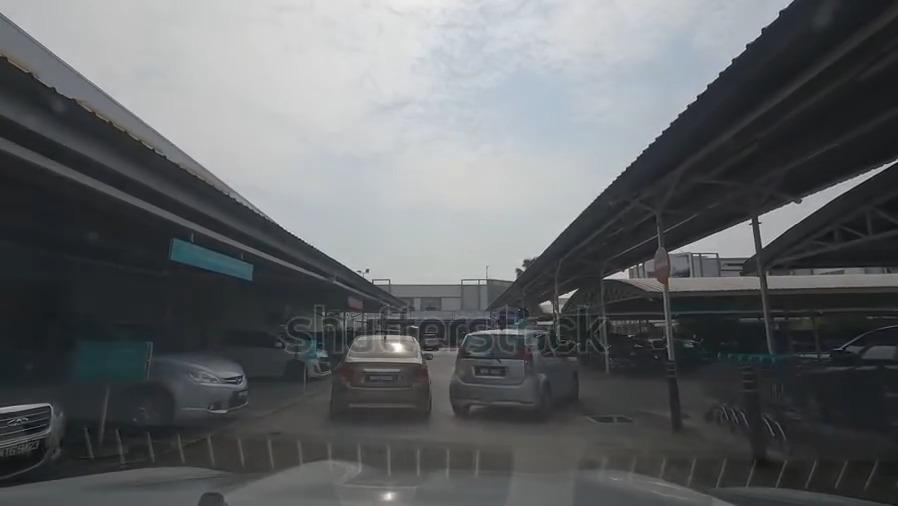car: (60, 318, 248, 423), (459, 328, 576, 408), (0, 365, 72, 471), (341, 335, 434, 413), (223, 326, 327, 380), (423, 331, 441, 348)
manhole: (592, 410, 634, 429)
wheel: (119, 376, 173, 437), (287, 359, 305, 383)
